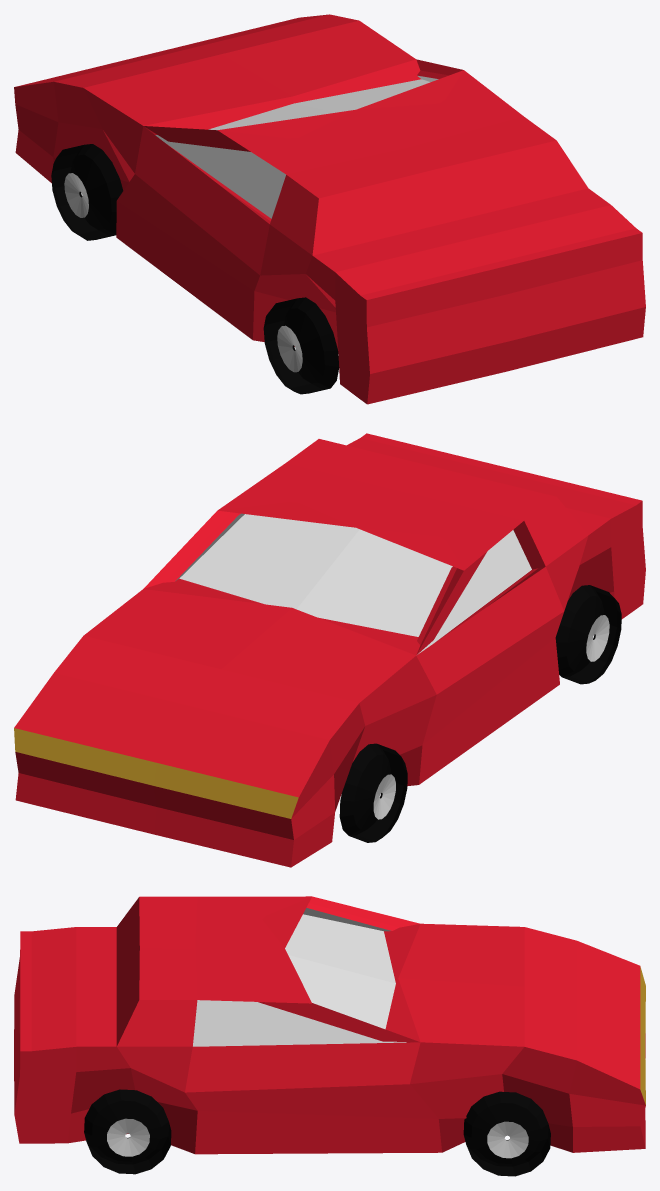
The model's file is Red_car.fbx.
3 renders of one model, top to bottom at view 1: azimuth 30°, elevation 25°; view 2: azimuth 150°, elevation 25°; view 3: azimuth 270°, elevation 25°, orthographic. The views are drawn at different scales.
Visible parts, largest first — view 1: Cube; view 2: Cube; view 3: Cube.
Boxes of the visible parts, <box> form: Cube: <box>14,14,645,404</box>; Cube: <box>14,433,645,867</box>; Cube: <box>14,896,645,1176</box>.
Size of the model in its own units: 256 by 141 by 494.
